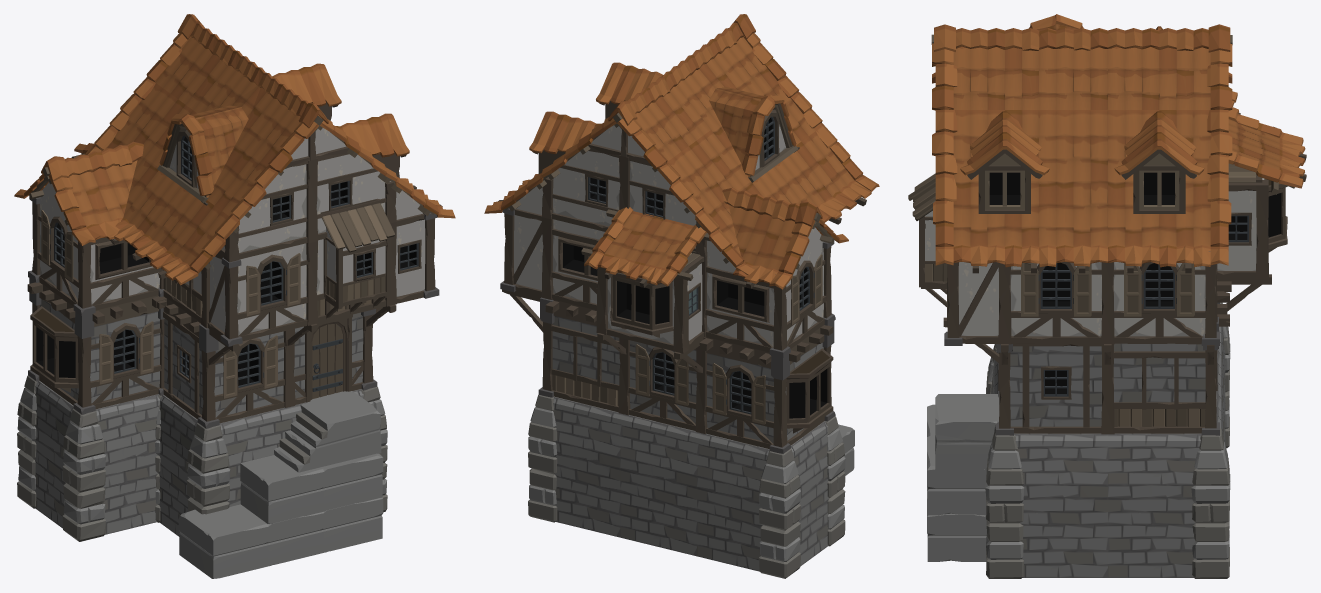
File: bld_house.gltf
3 renders of one model, left to right at view 1: azimuth 30°, elevation 25°; view 2: azimuth 150°, elevation 25°; view 3: azimuth 270°, elevation 25°, orthographic. The views are drawn at different scales.
Parts seen in each view (by area): view 1: bld_house; view 2: bld_house; view 3: bld_house.
Boxes of the visible parts, x1,y1,x2,y2 form: bld_house: (14,14,455,578); bld_house: (484,14,879,578); bld_house: (908,14,1306,578).
Bounding box in the file's own units: 10.09 × 13.49 × 9.67.
Materials: 1 (1 with a texture image).
